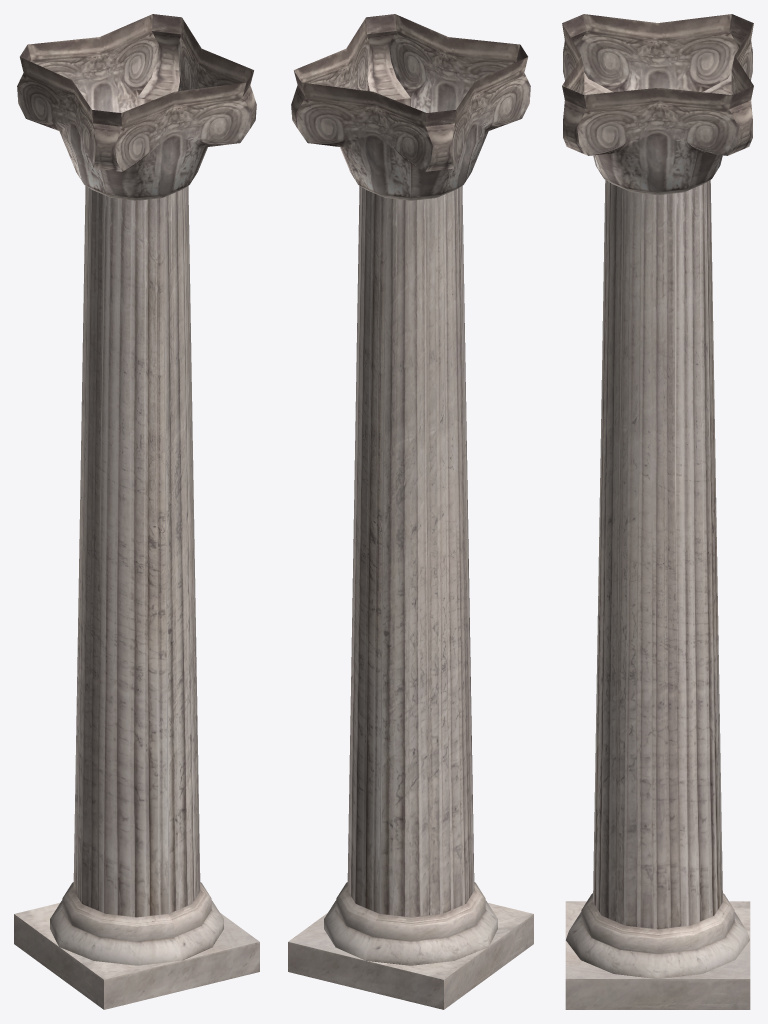
File: ColumnIntA.fbx
The picture shows the model from 3 angles, left to right: view 1: azimuth 30°, elevation 25°; view 2: azimuth 150°, elevation 25°; view 3: azimuth 270°, elevation 25°; orthographic projection. The views are drawn at different scales.
Visible parts, largest first — view 1: ColumnIntA; view 2: ColumnIntA; view 3: ColumnIntA.
Part boxes in pixels (<box>): ColumnIntA: <box>14,14,259,1009</box>; ColumnIntA: <box>288,14,533,1009</box>; ColumnIntA: <box>562,14,753,1009</box>.
Size of the model in its own units: 72.28 by 381 by 72.28.
